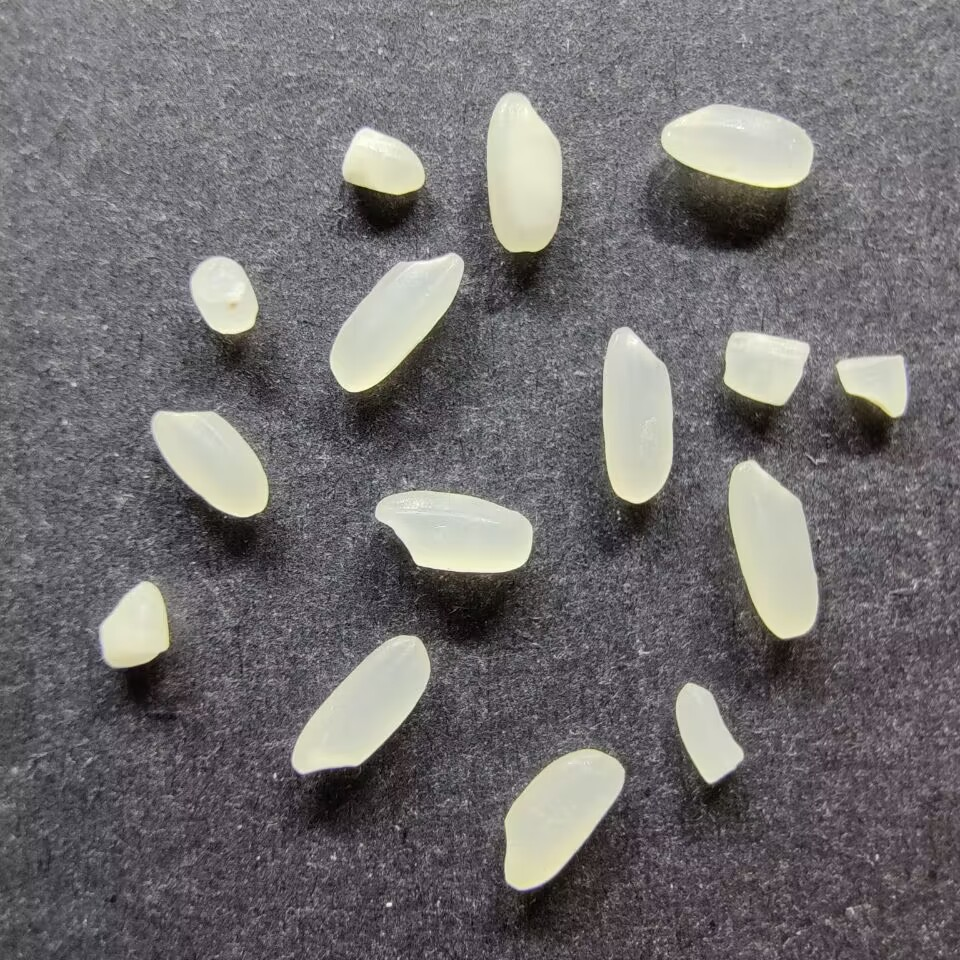broken: (674, 679, 746, 785), (720, 330, 812, 407), (97, 579, 170, 671), (339, 123, 426, 197), (186, 254, 260, 336), (832, 354, 911, 420)
rice: (288, 633, 431, 776), (327, 250, 465, 394), (500, 747, 627, 892), (725, 457, 821, 640), (599, 325, 676, 506), (372, 488, 532, 574), (658, 101, 813, 189), (148, 408, 270, 519), (484, 89, 561, 254)
